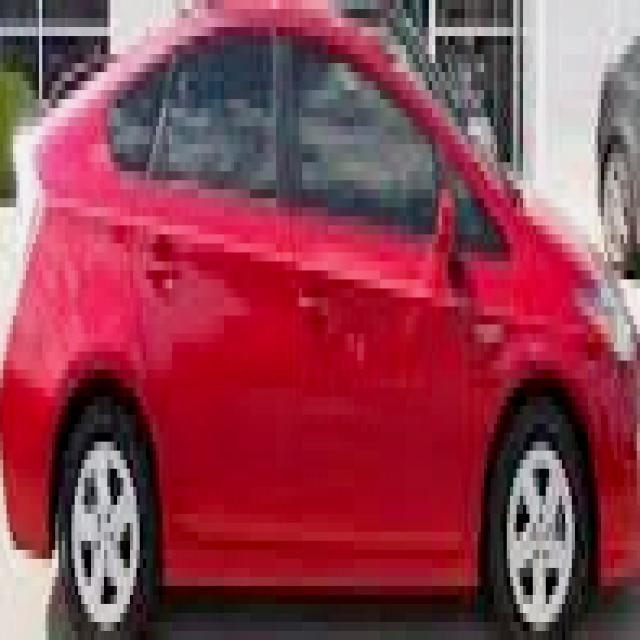red: (0, 5, 633, 640)
